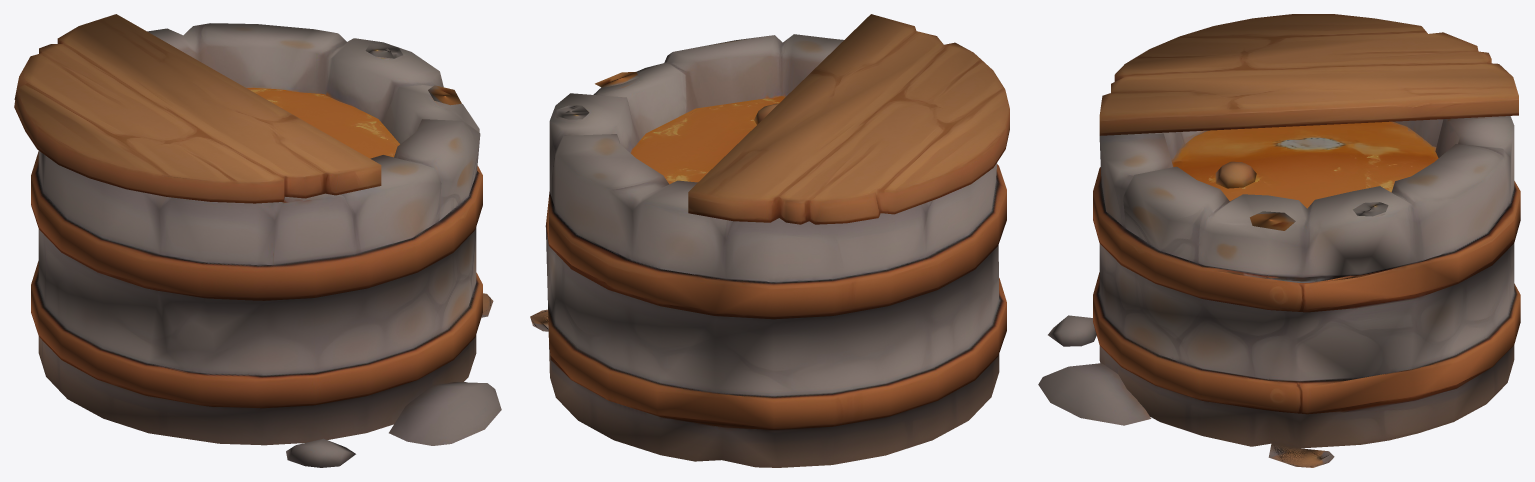
Rendered from map_ciderwell_tripo.glb.
The picture shows the model from 3 angles, left to right: view 1: azimuth 30°, elevation 25°; view 2: azimuth 150°, elevation 25°; view 3: azimuth 270°, elevation 25°; orthographic projection. The views are drawn at different scales.
Parts seen in each view (by area): view 1: tripo_node_9c378983-63b4-4613-b357-6152941dcbdd; view 2: tripo_node_9c378983-63b4-4613-b357-6152941dcbdd; view 3: tripo_node_9c378983-63b4-4613-b357-6152941dcbdd.
Part boxes in pixels (left/top/right/bottom): tripo_node_9c378983-63b4-4613-b357-6152941dcbdd: left=14, top=14, right=501, bottom=467; tripo_node_9c378983-63b4-4613-b357-6152941dcbdd: left=530, top=14, right=1009, bottom=467; tripo_node_9c378983-63b4-4613-b357-6152941dcbdd: left=1038, top=14, right=1520, bottom=467.
Size of the model in its own units: 0.9941 by 0.5723 by 0.998.
1 material, 1 textured.
